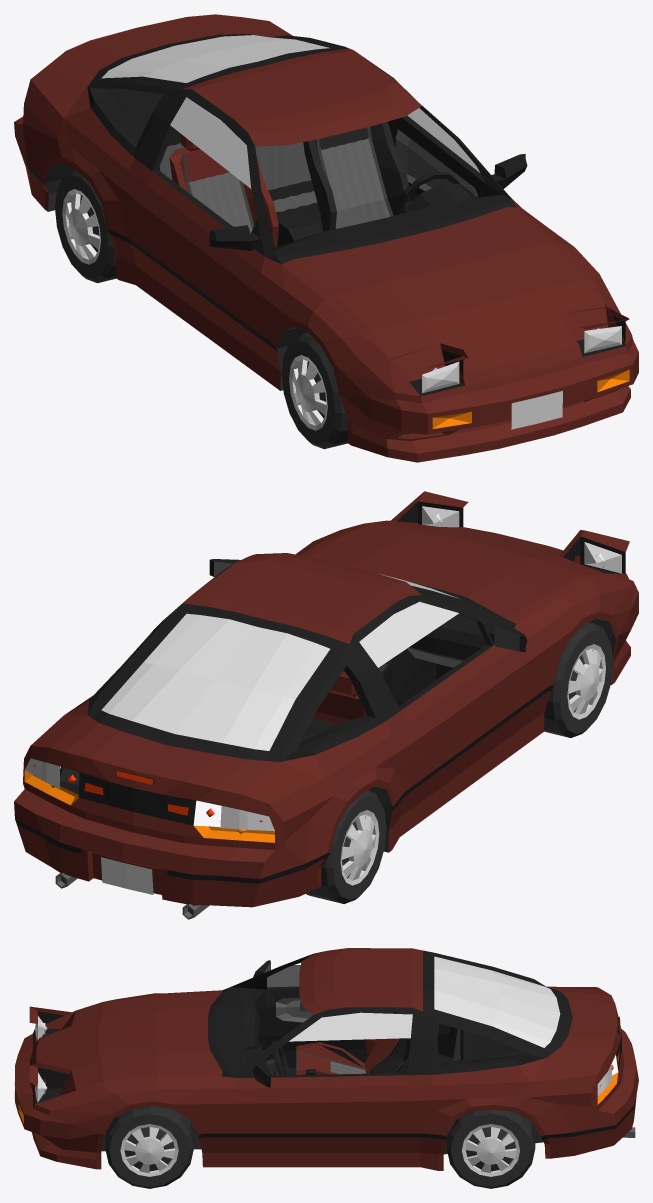
The model's file is nissan-180sx.glb.
3 renders of one model, top to bottom at view 1: azimuth 30°, elevation 25°; view 2: azimuth 150°, elevation 25°; view 3: azimuth 270°, elevation 25°, orthographic. The views are drawn at different scales.
Parts seen in each view (by area): view 1: Plane.002, Cube, CG_wheel_2, CG_wheel_1, Cube.002, Plane.001, Cylinder.004; view 2: Plane.002, CG_wheel_2, CG_wheel_1, Plane.001, Cube.002; view 3: Plane.002, CG_wheel_0, CG_wheel_3, Cube.002, Plane.001, Cube, Cylinder.004.
Part boxes in pixels (x1,y1,x2,y2): Plane.002: [14, 14, 638, 462]; Cube: [303, 121, 410, 231]; CG_wheel_2: [281, 333, 347, 449]; CG_wheel_1: [55, 169, 116, 283]; Cube.002: [169, 134, 278, 247]; Plane.001: [390, 307, 629, 393]; Cylinder.004: [397, 172, 475, 214]; Plane.002: [14, 520, 638, 919]; CG_wheel_2: [544, 622, 613, 737]; CG_wheel_1: [306, 790, 386, 903]; Plane.001: [391, 491, 629, 573]; Cube.002: [313, 670, 366, 723]; Plane.002: [14, 948, 638, 1170]; CG_wheel_0: [105, 1106, 193, 1188]; CG_wheel_3: [446, 1109, 535, 1188]; Cube.002: [296, 1038, 400, 1074]; Plane.001: [29, 1006, 72, 1102]; Cube: [369, 1038, 410, 1073]; Cylinder.004: [237, 1040, 290, 1075].
Size of the model in its own units: 1.99 by 1.3 by 4.52.
